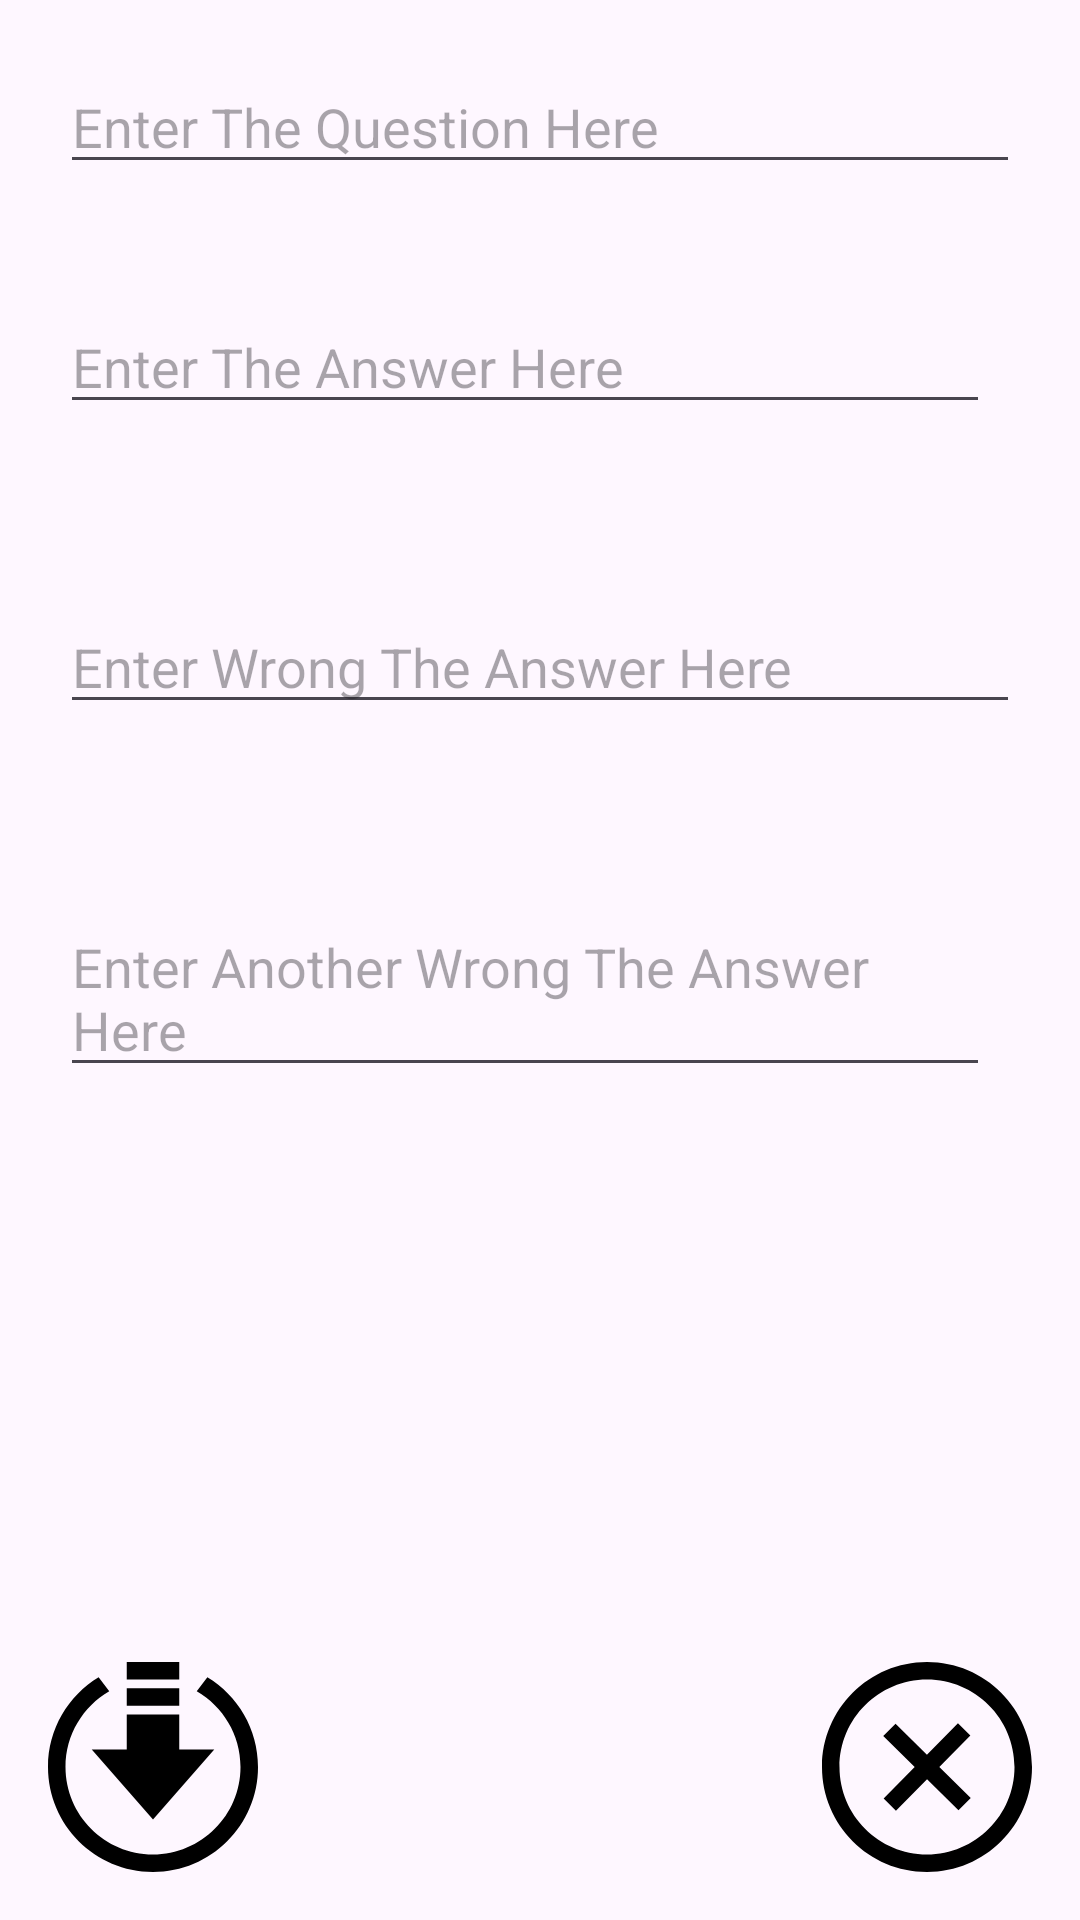

Screen size 1080w x 1920h. Icon name, then its box in pixels as (x1, y1, x2, y2):
iconmonstr mark: (822, 1662, 1032, 1872)
save: (48, 1662, 258, 1872)
